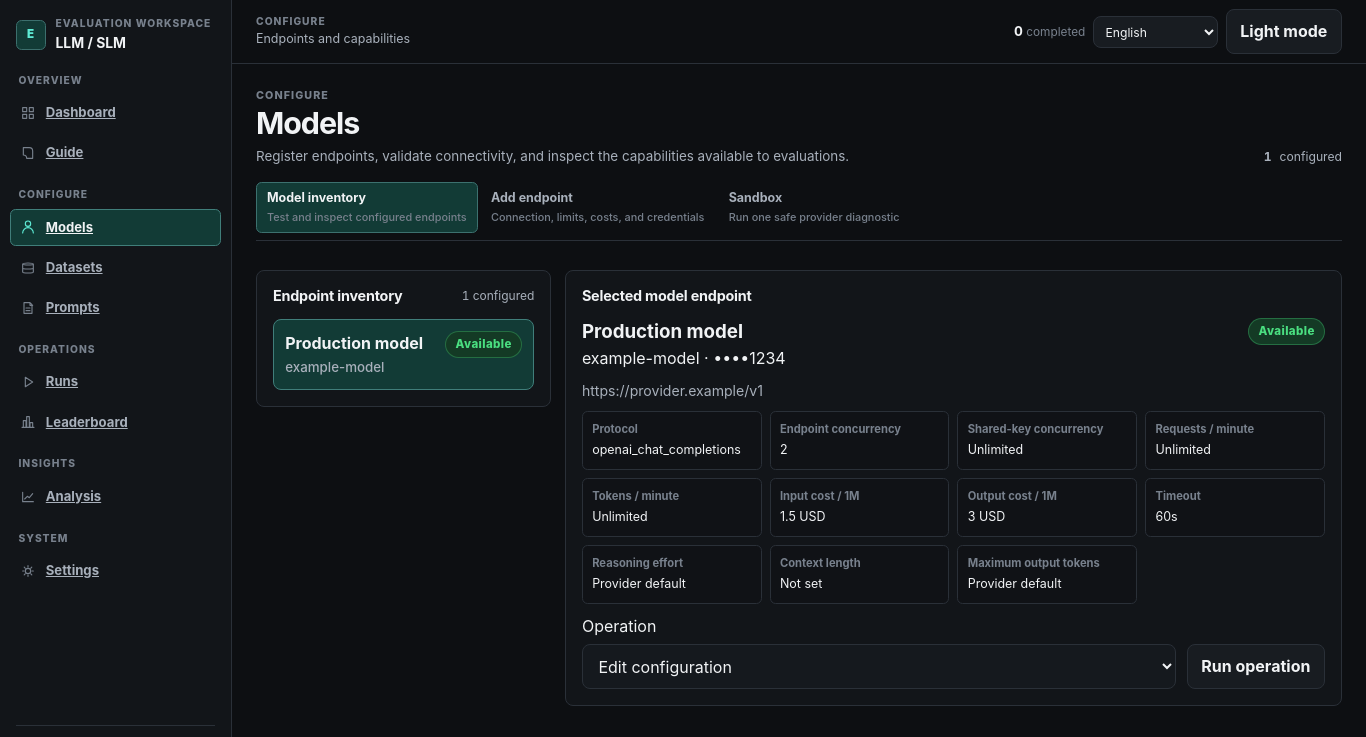
Test case: workspace tab routing › moves an endpoint edit from inventory to its URL-backed form tab
Select "Edit configuration" in the dropdown labelled "Operation" at (879, 667), box [582,644,1176,689]
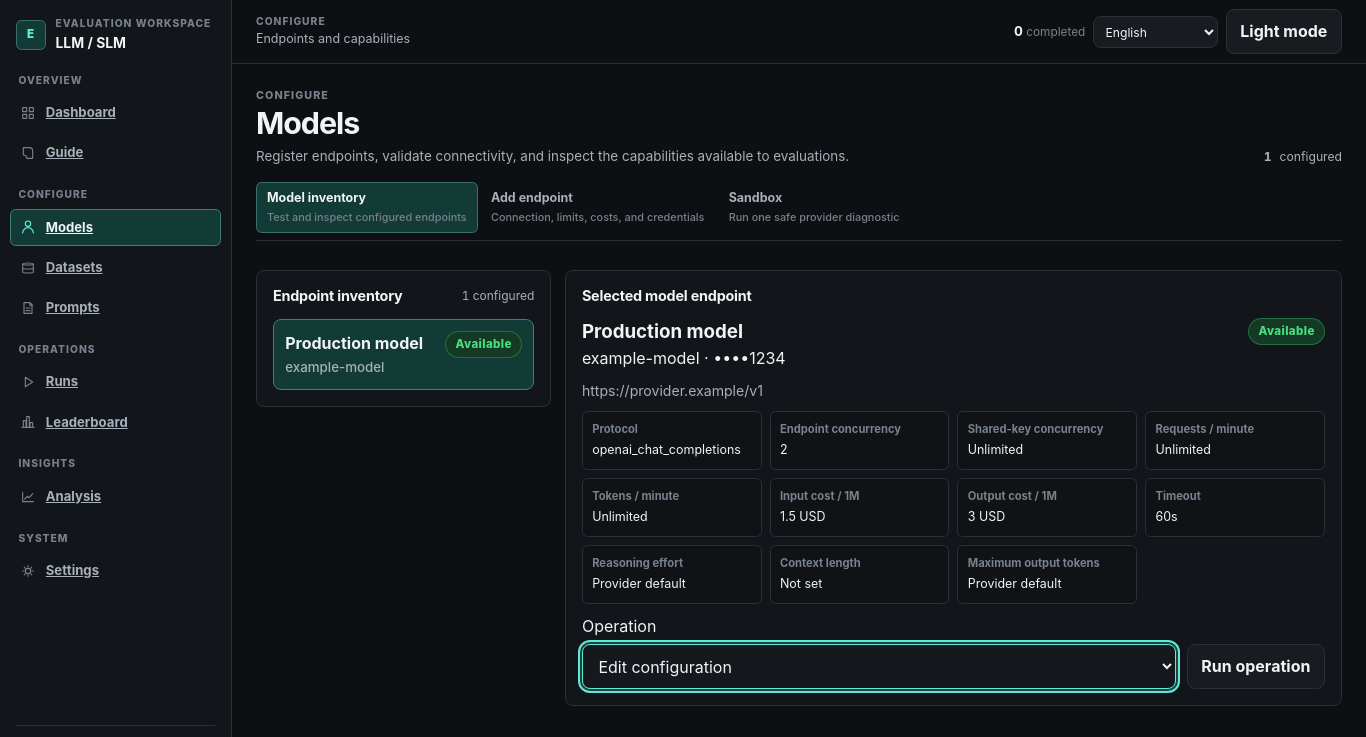
Click the button "Run operation" at (1256, 666), box [1187,644,1325,689]
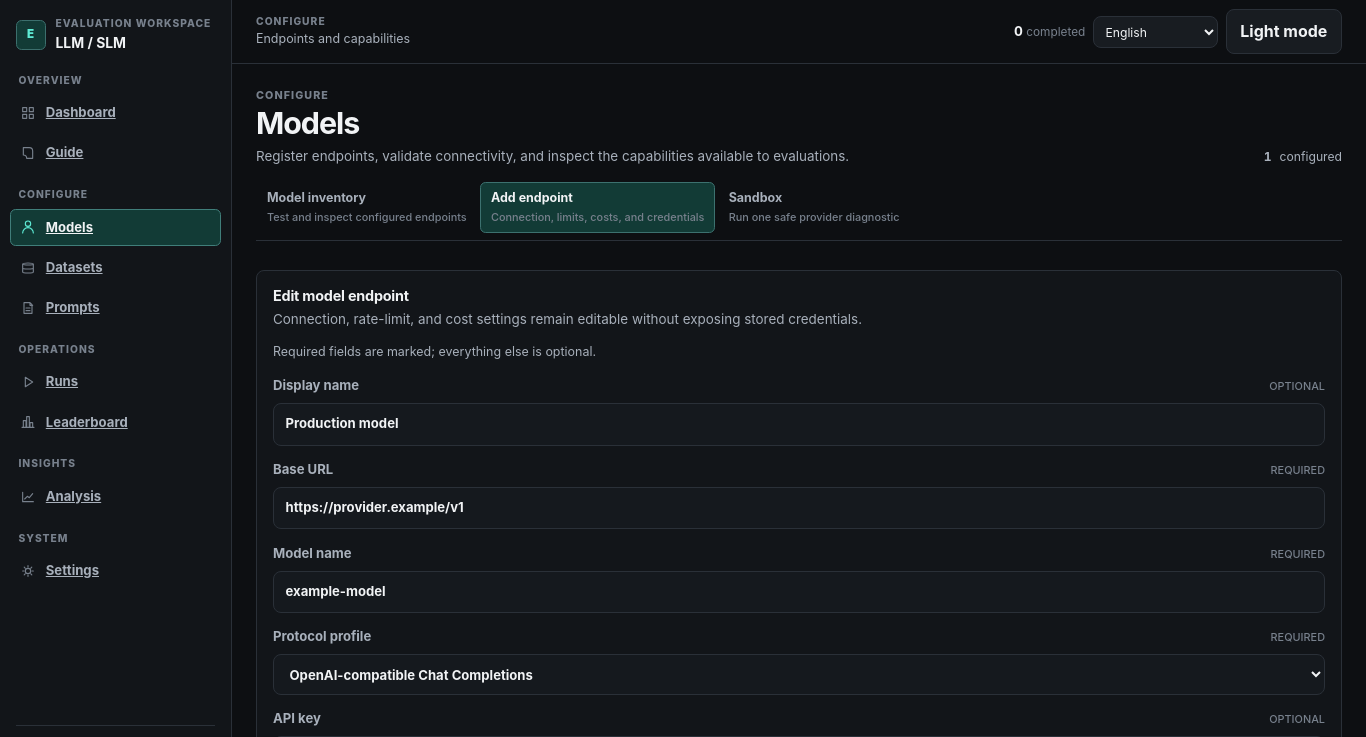
Expected: the heading "Edit model endpoint" is shown, [273,287,409,304]
Expected: the field labelled "Display name" holds "Production model", [273,403,1325,446]
